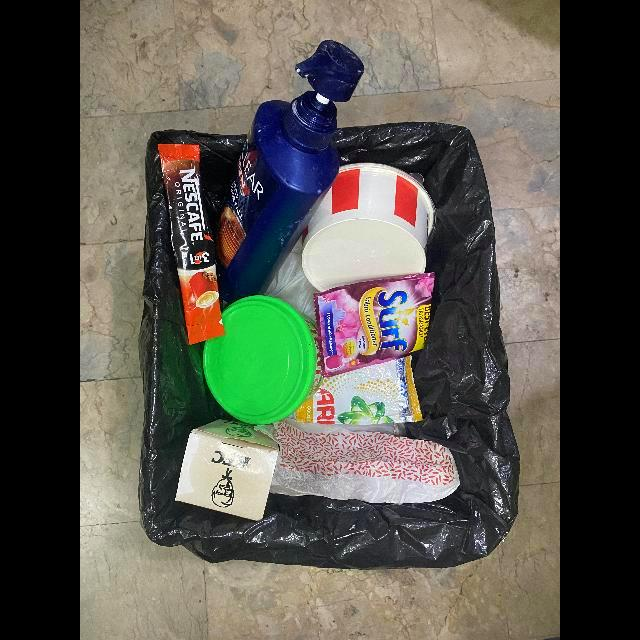cardboard: (301, 163, 436, 292), (175, 419, 280, 521)
paper: (269, 419, 462, 505)
plastic_bottle: (215, 40, 365, 304)
plastic_container: (203, 295, 322, 425)
plastic_sachet: (158, 143, 225, 346), (313, 273, 435, 378), (293, 356, 424, 426)
